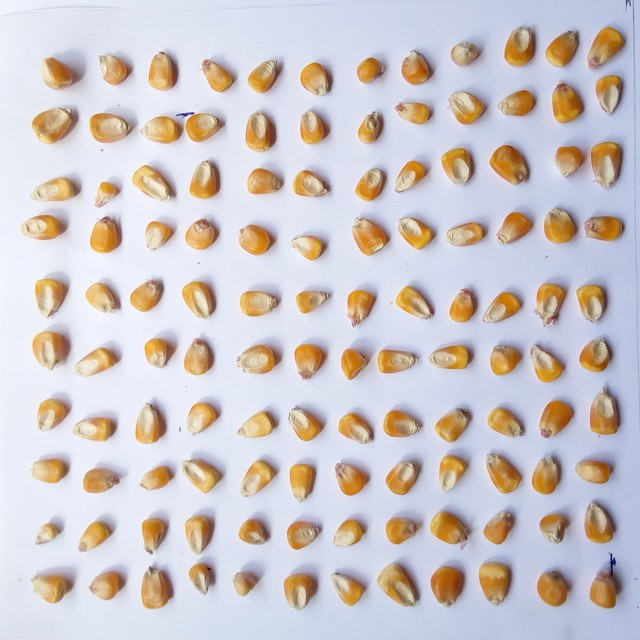maiz: (376, 556, 424, 613), (487, 142, 536, 192), (526, 339, 573, 390), (27, 104, 81, 147), (586, 136, 628, 191), (586, 384, 628, 439), (479, 450, 525, 500), (392, 278, 440, 324), (25, 327, 73, 373), (586, 25, 631, 73), (86, 104, 134, 149), (130, 162, 178, 207), (31, 51, 81, 94), (476, 558, 517, 610), (431, 452, 476, 499), (294, 54, 338, 101), (25, 392, 72, 436), (500, 20, 541, 70), (531, 278, 571, 329), (26, 273, 70, 319), (575, 333, 621, 377), (276, 569, 320, 615), (179, 276, 220, 325), (138, 562, 179, 611), (580, 498, 620, 548), (531, 447, 570, 498), (349, 213, 393, 258), (428, 561, 467, 611), (443, 214, 487, 258), (289, 337, 331, 383), (236, 283, 283, 324), (486, 338, 526, 386), (143, 47, 183, 94), (546, 80, 586, 127), (234, 406, 281, 446), (495, 205, 534, 253), (541, 393, 577, 445), (537, 562, 573, 614), (440, 141, 477, 191), (239, 458, 283, 500), (544, 25, 583, 72), (130, 271, 169, 318), (286, 458, 324, 506), (236, 218, 279, 260), (286, 402, 328, 445), (383, 458, 426, 500), (395, 45, 436, 89), (446, 86, 487, 130), (398, 210, 439, 254), (133, 399, 169, 449), (182, 457, 228, 496), (180, 509, 219, 555), (24, 174, 81, 205), (73, 345, 122, 381), (384, 403, 427, 444), (290, 164, 334, 204), (572, 281, 612, 325), (342, 287, 380, 333), (242, 107, 279, 154), (436, 404, 478, 445), (75, 514, 117, 555), (427, 340, 479, 373), (593, 71, 628, 120), (26, 571, 75, 606), (140, 110, 185, 148), (92, 48, 134, 88), (331, 457, 371, 499), (183, 394, 222, 437), (550, 141, 588, 185), (286, 513, 324, 557), (289, 282, 335, 318), (184, 104, 224, 145), (430, 508, 472, 547), (481, 505, 520, 547), (247, 54, 285, 97), (337, 409, 380, 447), (574, 454, 622, 488), (286, 227, 330, 264), (242, 164, 287, 200), (236, 341, 281, 377), (375, 342, 420, 378), (82, 279, 123, 318), (486, 288, 527, 327), (73, 414, 120, 448), (498, 86, 542, 122), (182, 336, 218, 380), (79, 464, 127, 497), (584, 212, 630, 246), (196, 56, 237, 94), (331, 567, 369, 608), (16, 212, 66, 243), (186, 158, 222, 201), (395, 156, 431, 199), (88, 213, 123, 257), (545, 204, 580, 248), (28, 455, 72, 490), (183, 213, 222, 252), (138, 217, 176, 257), (349, 164, 387, 203), (139, 461, 178, 499), (331, 515, 370, 553), (483, 403, 526, 437), (296, 103, 329, 147), (137, 334, 175, 372), (392, 96, 437, 128), (383, 511, 423, 547), (137, 514, 171, 556), (353, 104, 386, 147), (535, 509, 572, 547), (588, 570, 622, 611), (91, 568, 129, 604), (352, 52, 387, 91), (236, 513, 275, 548), (447, 283, 478, 326), (443, 36, 482, 69), (89, 178, 126, 212), (339, 344, 371, 382), (230, 568, 264, 603), (188, 561, 218, 599), (32, 517, 64, 551)
